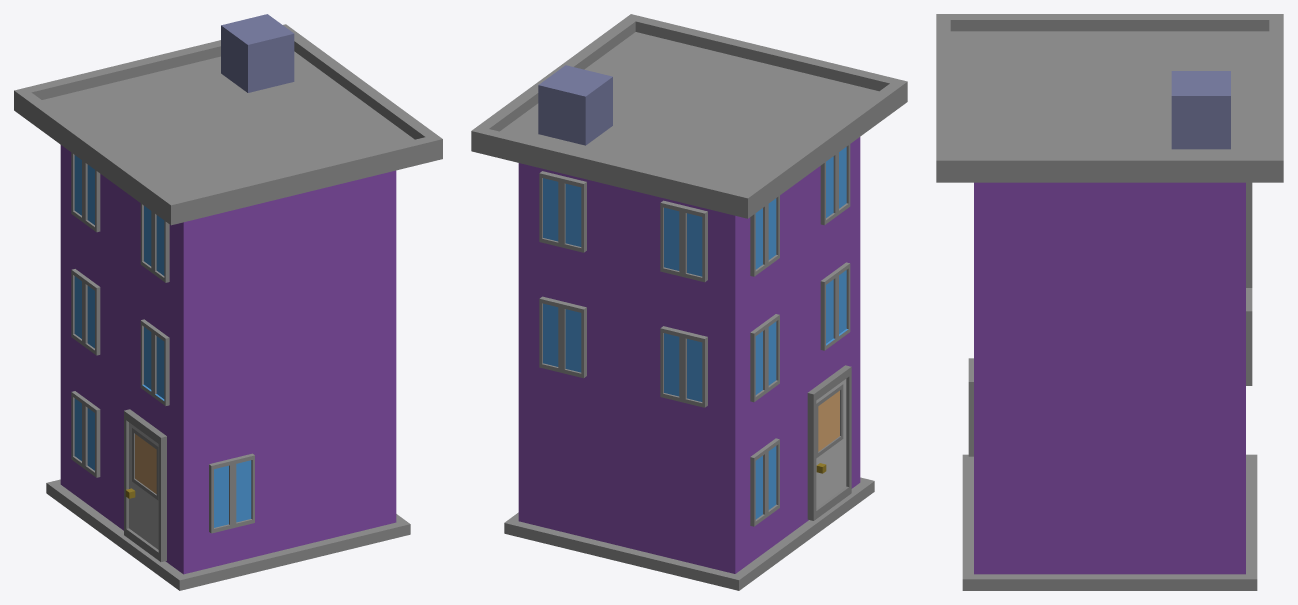
The model's file is edificiopro.fbx.
3 views of the same model, side by side, from view 1: azimuth 30°, elevation 25°; view 2: azimuth 150°, elevation 25°; view 3: azimuth 270°, elevation 25° (orthographic). The views are drawn at different scales.
Parts seen in each view (by area): view 1: edificio1; view 2: edificio1; view 3: edificio1.
Part boxes in pixels (x1,y1,x2,y2): edificio1: (14, 14, 442, 590); edificio1: (471, 14, 907, 590); edificio1: (936, 14, 1283, 590).
Bounding box in the file's own units: 835 × 1283 × 835.
